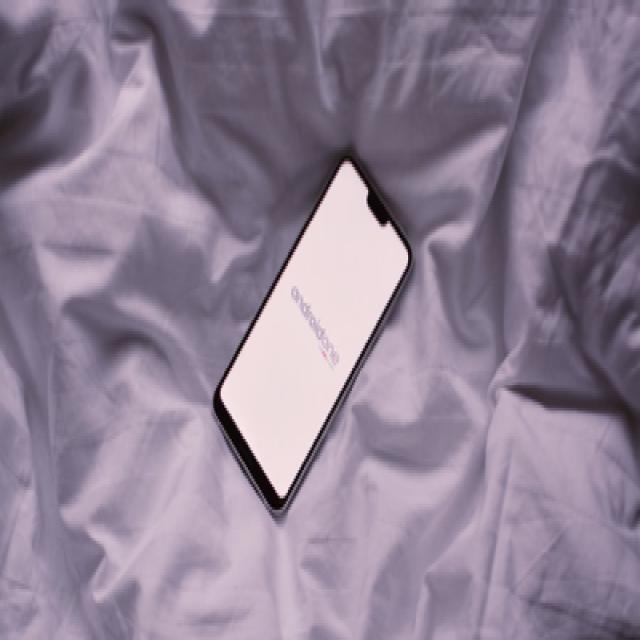cellphone: (211, 150, 413, 518)
